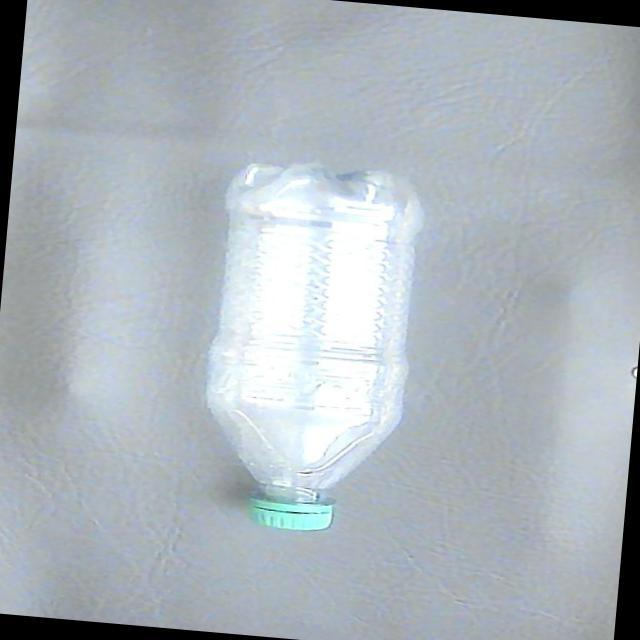good: (182, 152, 433, 540)
